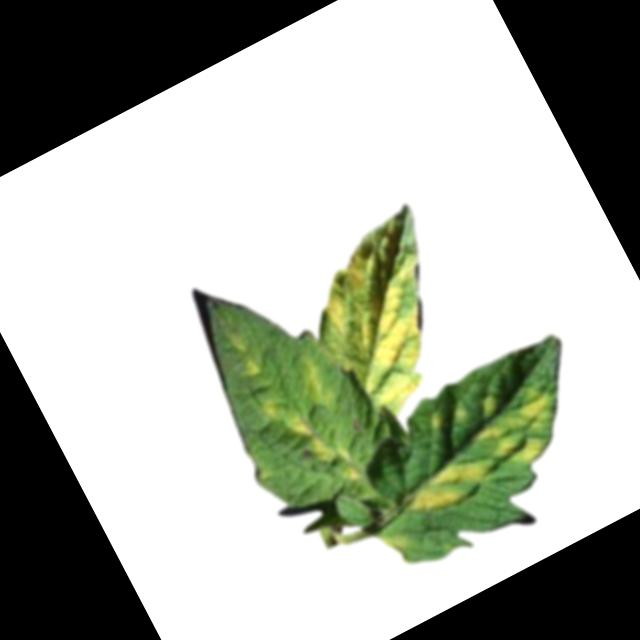Leaf_Mold: (287, 212, 481, 430), (467, 381, 572, 480), (400, 447, 499, 529), (290, 346, 342, 412), (282, 403, 334, 467), (328, 442, 367, 487), (378, 526, 411, 558), (256, 390, 285, 423), (419, 407, 448, 436), (237, 353, 263, 380)
